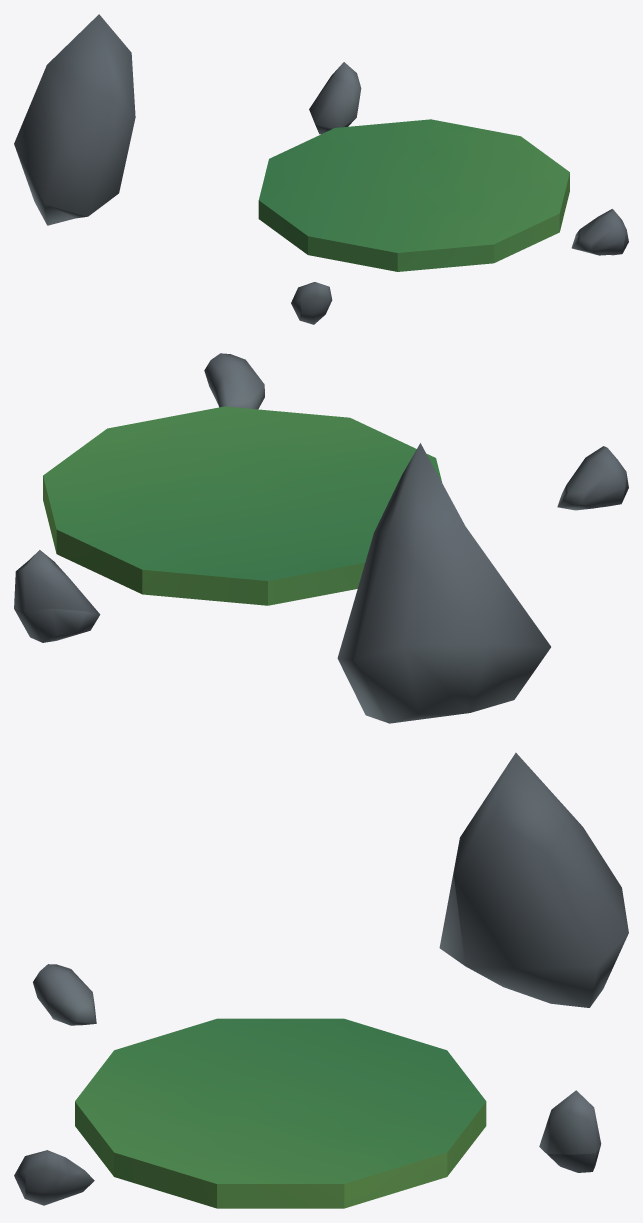
File: forestGeks.fbx
3 views of the same model, one above another, from view 1: azimuth 30°, elevation 25°; view 2: azimuth 150°, elevation 25°; view 3: azimuth 270°, elevation 25° (orthographic). The views are drawn at different scales.
Parts seen in each view (by area): view 1: Icosphere, Cube; view 2: Icosphere, Cube; view 3: Icosphere, Cube.
Boxes of the visible parts, x1,y1,x2,y2 form: Icosphere: (258, 119, 569, 271); Cube: (14, 14, 628, 324); Icosphere: (43, 406, 442, 605); Cube: (14, 353, 628, 723); Icosphere: (75, 1018, 486, 1208); Cube: (14, 752, 628, 1205).
Bounding box in the file's own units: 9054 × 3931 × 8613.
Materials: 1 (1 with a texture image).
